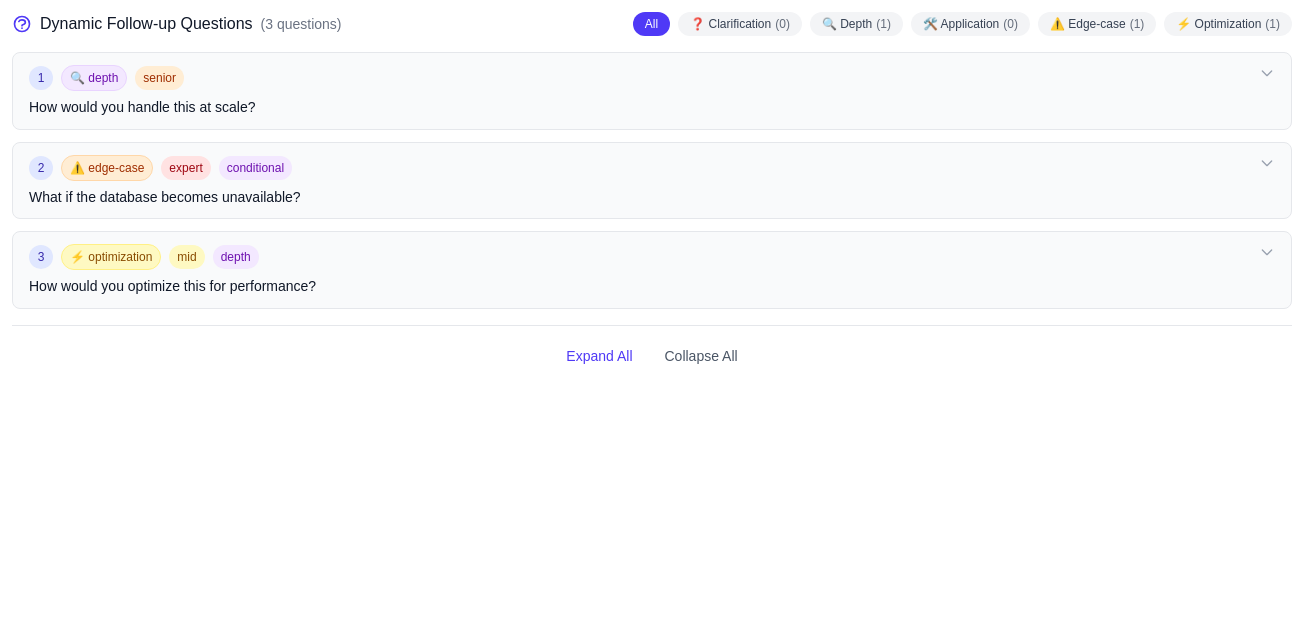
it: FollowUpQuestions › expands and shows question details
// Click on first question to expand
What coordinates should you click on to do the following:
click the text "How would you handle this at scale?"
I would click on:
 (142, 107)
Its box is left=29, top=99, right=256, bottom=115.
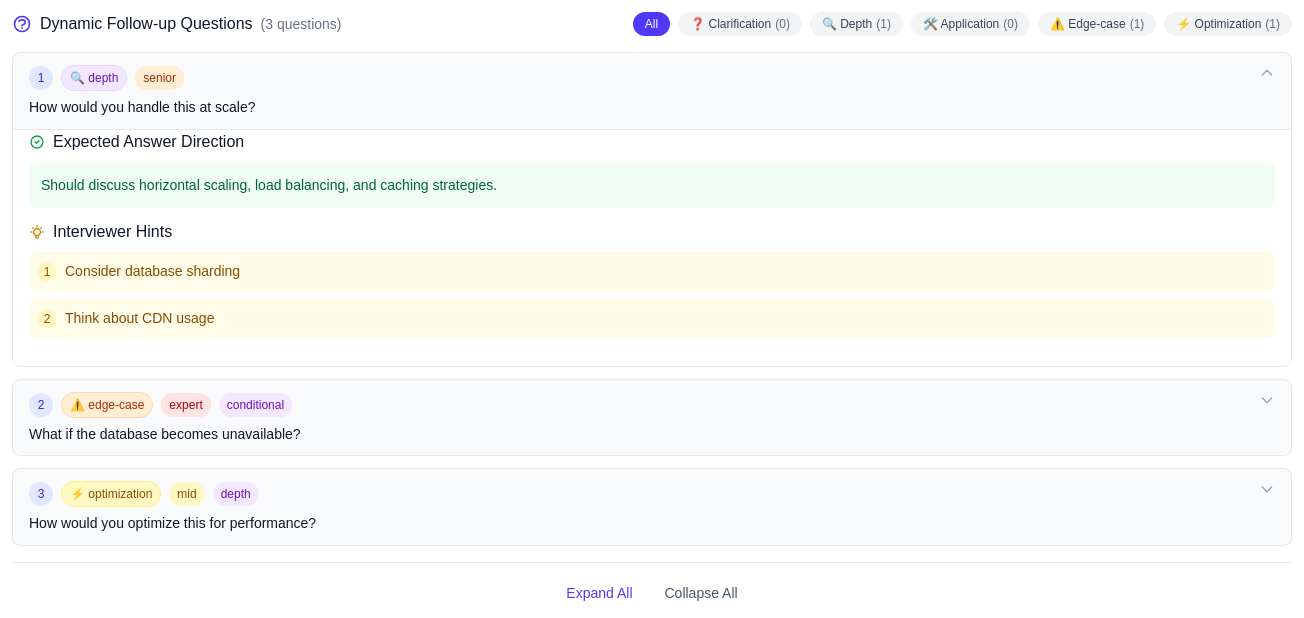
Expected: the heading "Expected Answer Direction" is shown, left=29, top=132, right=244, bottom=150
Expected: the text "Should discuss horizontal scaling" is shown, left=41, top=176, right=497, bottom=192
Expected: the heading "Interviewer Hints" is shown, left=29, top=223, right=172, bottom=240
